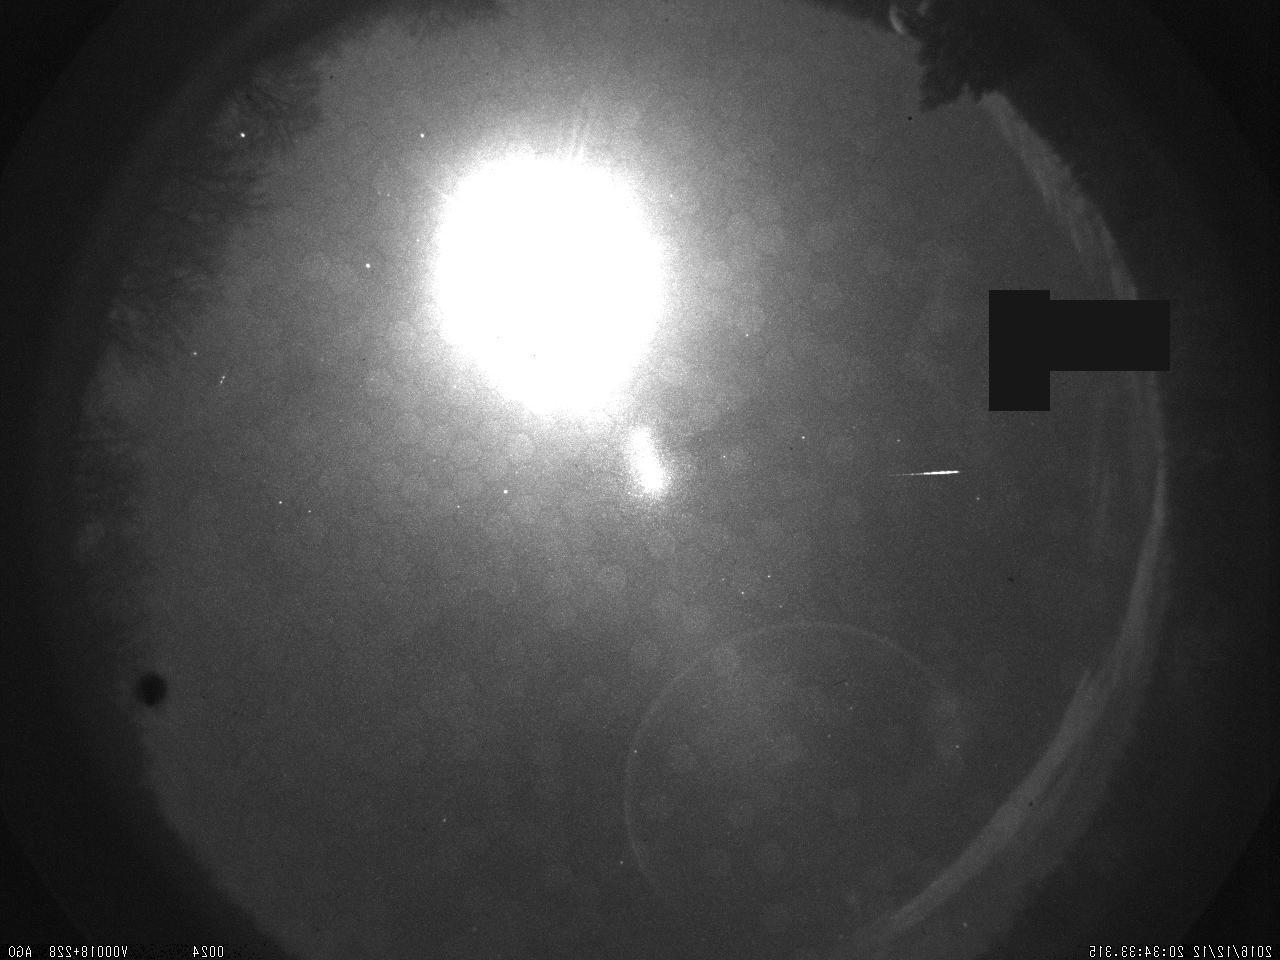meteor: (865, 451, 981, 500)
